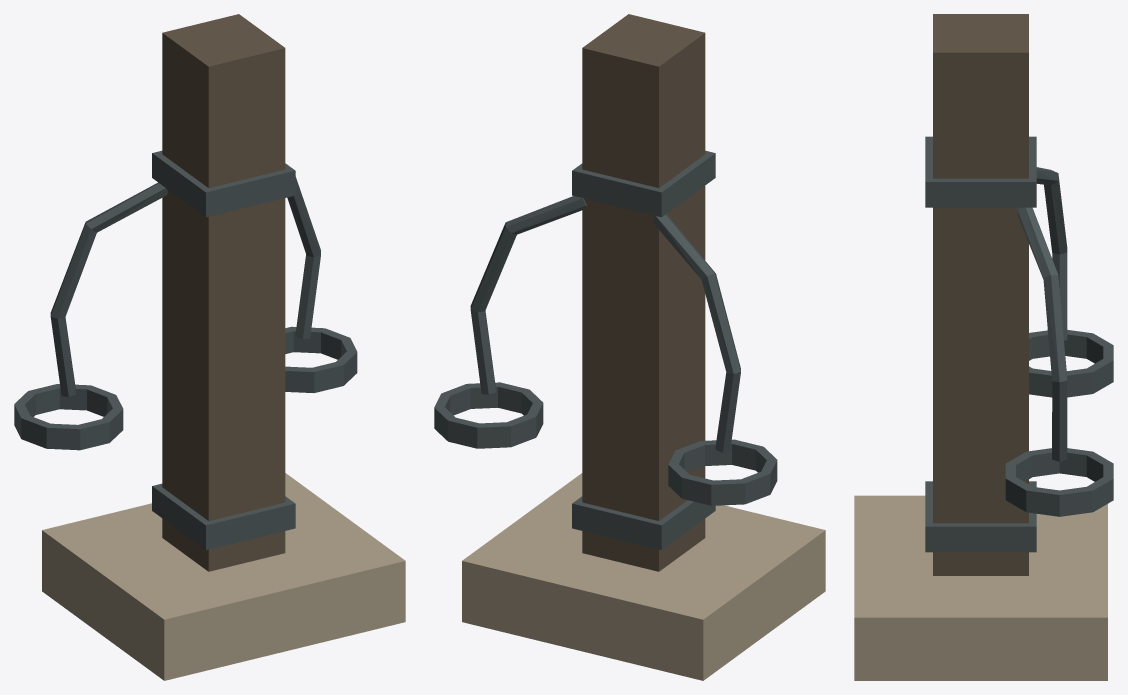
File: DG_Post_Shackles.fbx
3 views of the same model, side by side, from view 1: azimuth 30°, elevation 25°; view 2: azimuth 150°, elevation 25°; view 3: azimuth 270°, elevation 25° (orthographic). The views are drawn at different scales.
Parts seen in each view (by area): view 1: DG_Post_Shackles; view 2: DG_Post_Shackles; view 3: DG_Post_Shackles.
Part boxes in pixels (x1=…): DG_Post_Shackles: x1=14, y1=14, x2=405, y2=680; DG_Post_Shackles: x1=434, y1=14, x2=825, y2=680; DG_Post_Shackles: x1=854, y1=14, x2=1113, y2=680.
Bounding box in the file's own units: 0.9 × 1.48 × 0.5936.
